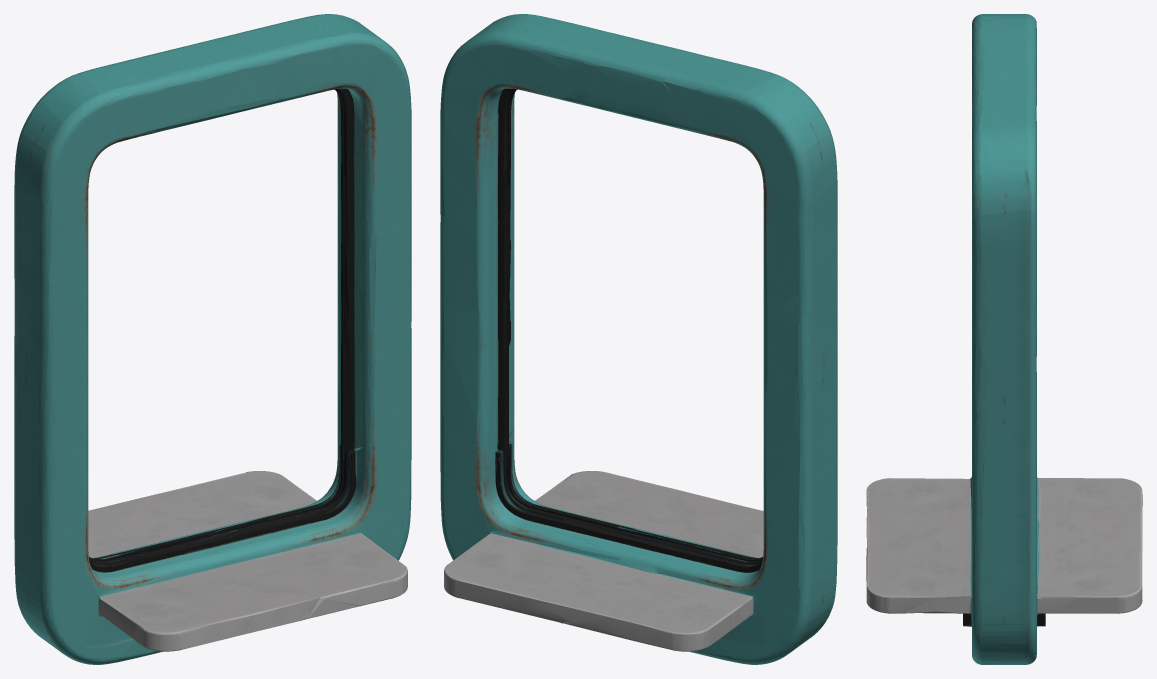
The model's file is finestra_gabbiotto.glb.
3 renders of one model, left to right at view 1: azimuth 30°, elevation 25°; view 2: azimuth 150°, elevation 25°; view 3: azimuth 270°, elevation 25°, orthographic. The views are drawn at different scales.
Parts seen in each view (by area): view 1: Mesh_0; view 2: Mesh_0; view 3: Mesh_0.
Boxes of the visible parts, x1,y1,x2,y2 form: Mesh_0: [14, 14, 411, 664]; Mesh_0: [440, 14, 837, 664]; Mesh_0: [866, 14, 1142, 664].
Size of the model in its own units: 1.28 by 1.9 by 0.8892.
Materials: 1 (1 with a texture image).
